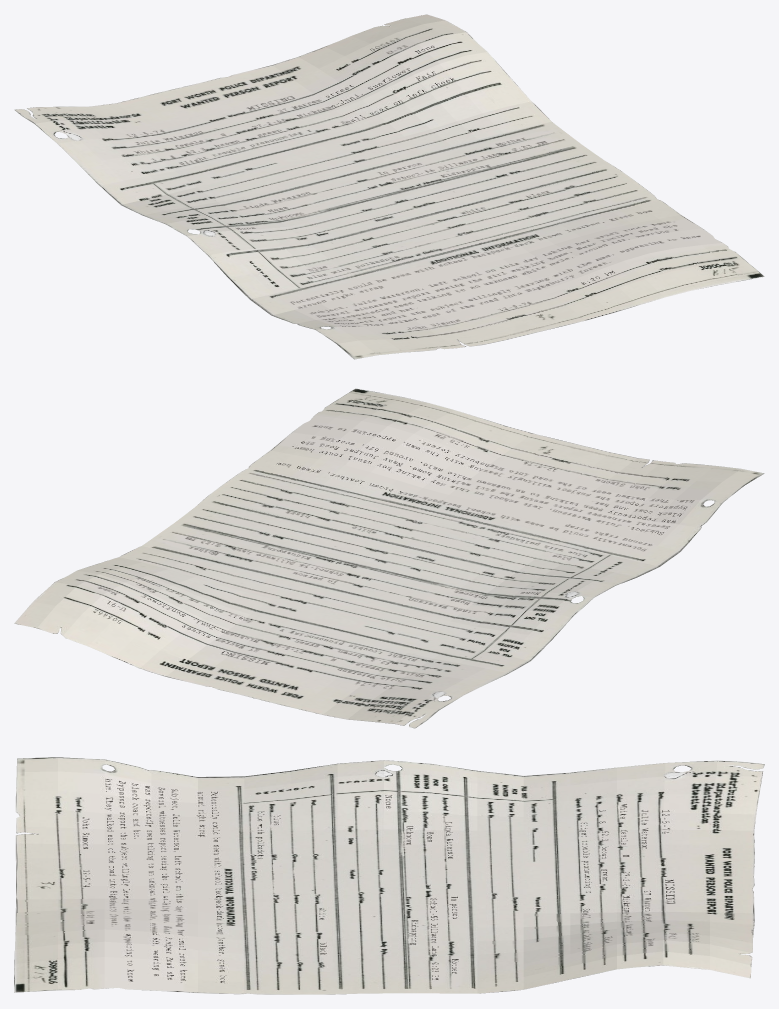
Rendered from report2.fbx.
3 renders of one model, top to bottom at view 1: azimuth 30°, elevation 25°; view 2: azimuth 150°, elevation 25°; view 3: azimuth 270°, elevation 25°, orthographic. The views are drawn at different scales.
Visible parts, largest first — view 1: MissingPaper; view 2: MissingPaper; view 3: MissingPaper.
Boxes of the visible parts, left/top/right/bottom form: MissingPaper: left=14, top=14, right=764, bottom=359; MissingPaper: left=14, top=388, right=764, bottom=728; MissingPaper: left=14, top=757, right=764, bottom=994.
Bounding box in the file's own units: 20.79 × 1.37 × 30.24.
